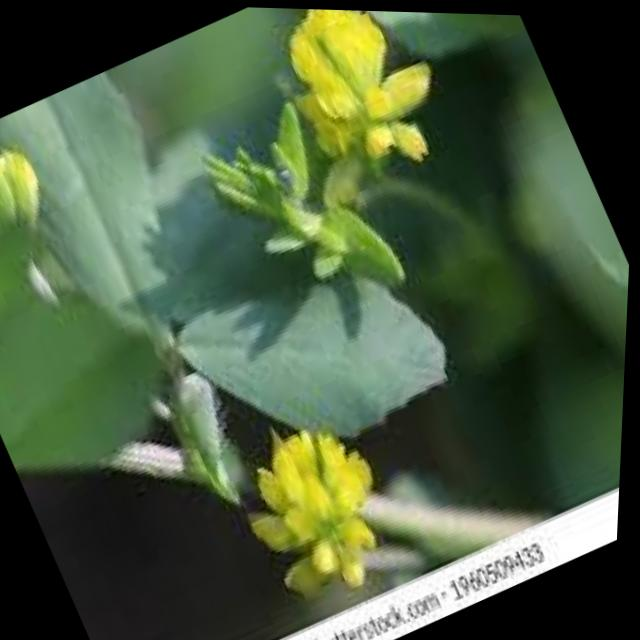Flower: (211, 388, 420, 625), (244, 6, 466, 209)
